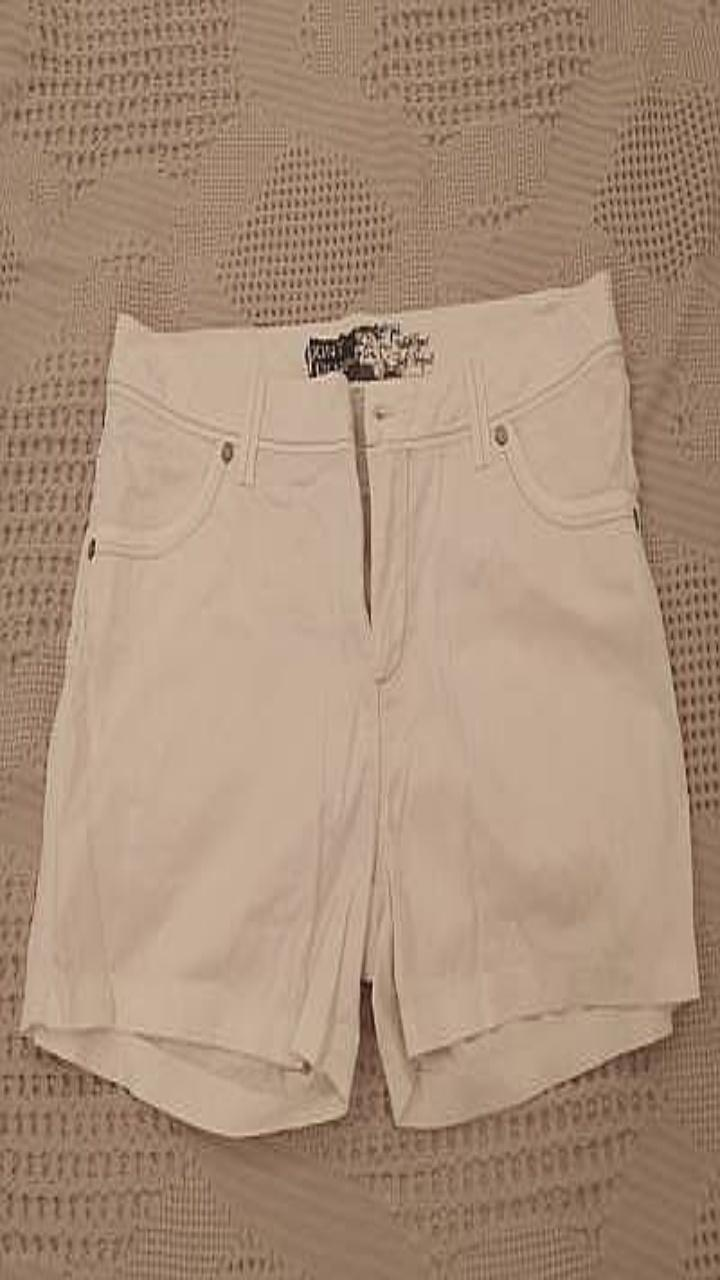Shorts: (20, 270, 698, 1134)
